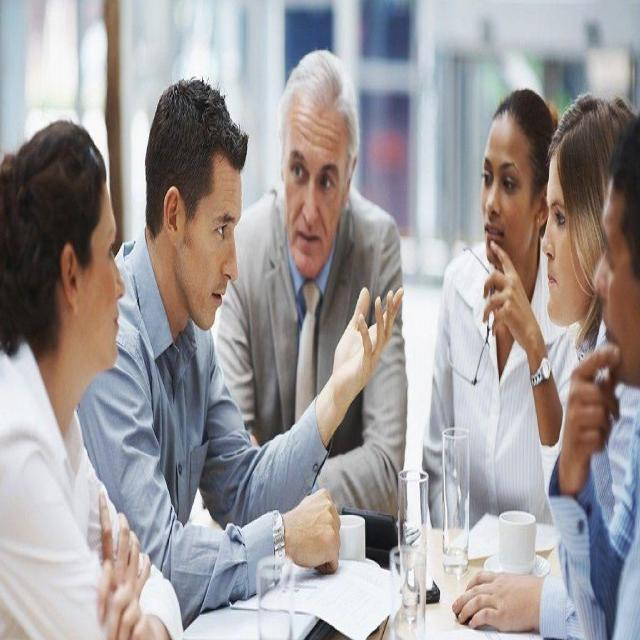person: (110, 22, 274, 602), (9, 84, 145, 638), (244, 46, 405, 492), (454, 30, 557, 542), (530, 66, 618, 432), (593, 159, 639, 435)
